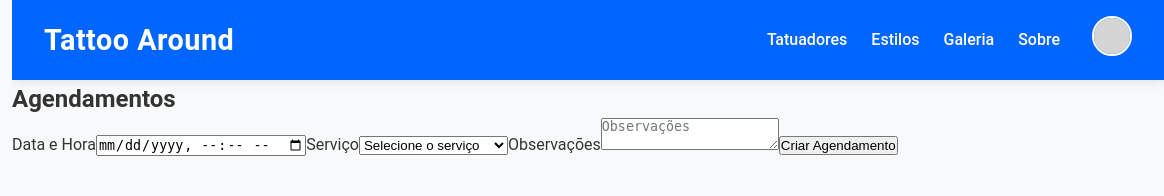
Scenario: Agendamentos › deve criar um agendamento com dados válidos
Type "2023-12-15T14:00" into the field with test id "date-picker".
click(201, 146); type("2023-12-15T14:00")  # box [96,135,306,156]
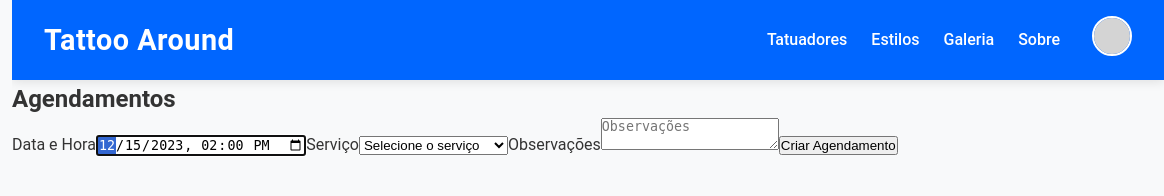
Select "Consulta inicial" in the dropdown with test id "service-select" at point(434, 146), box [359,136,508,155]
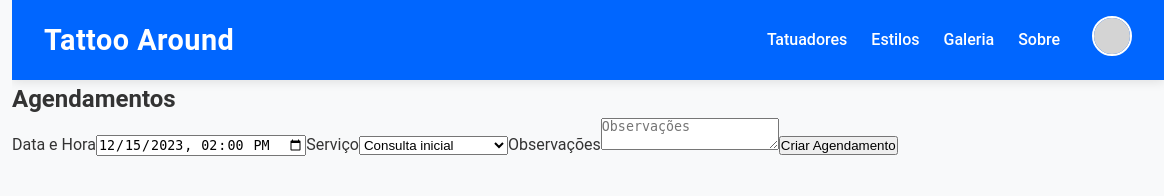
Click the button with test id "submit-appointment".
click(839, 146)  # box [779,136,898,155]
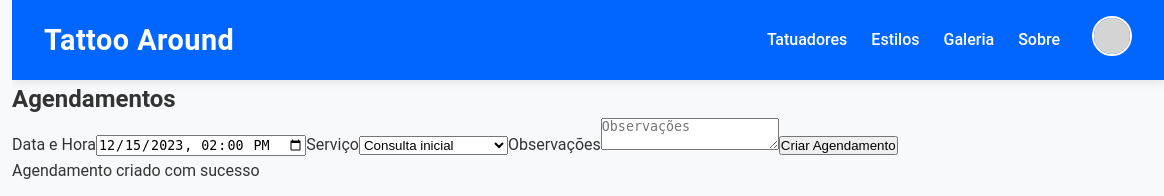
expect the text "Agendamento criado com sucesso" is shown: met, box [12,161,260,180]
